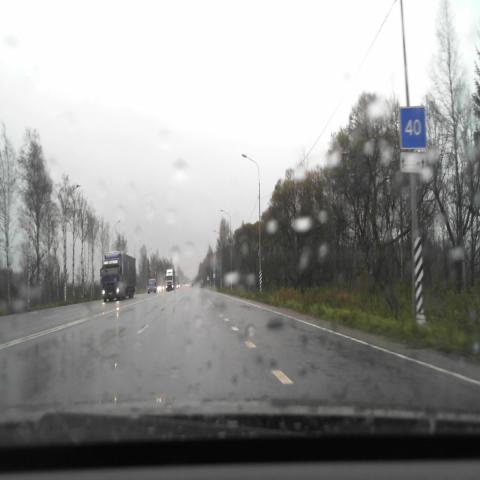6_2: (400, 106, 426, 149)
